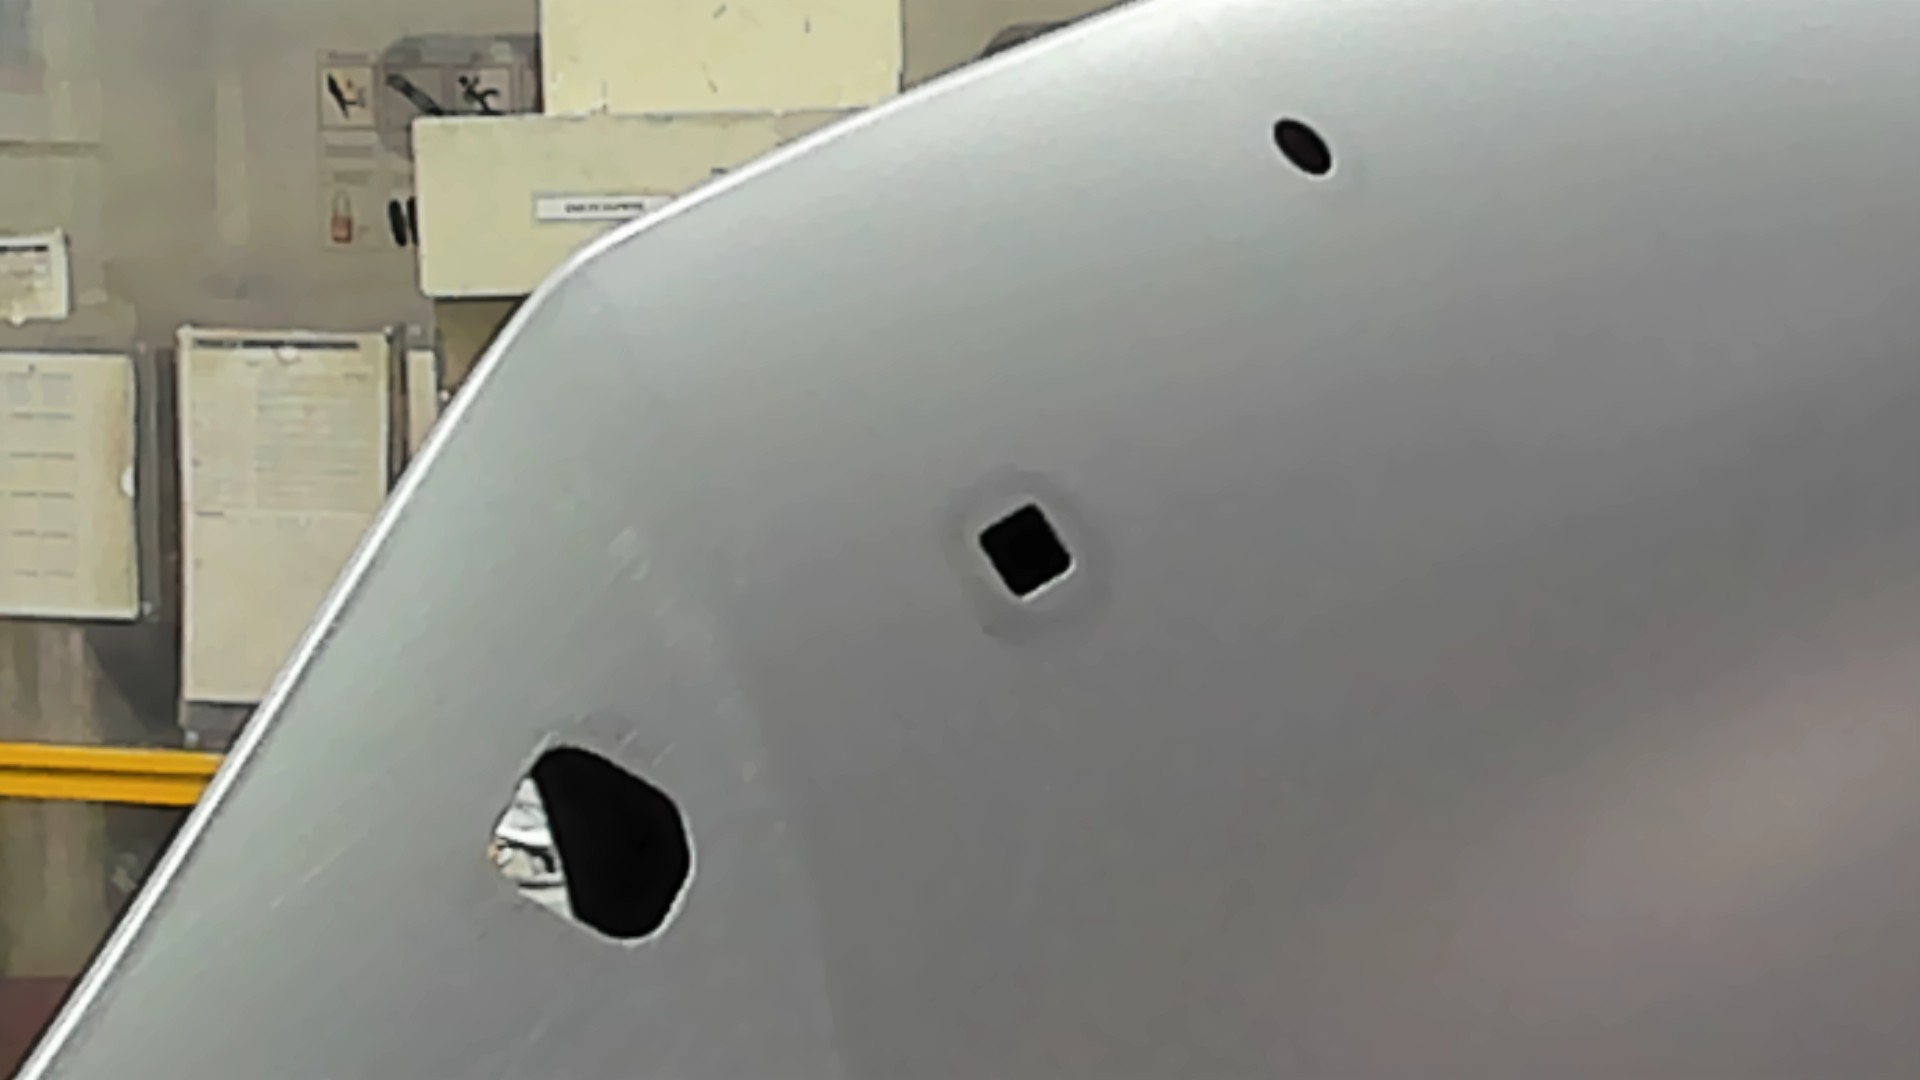chico: (1269, 111, 1338, 182)
grande: (483, 733, 704, 955)
mediano: (968, 491, 1084, 615)
